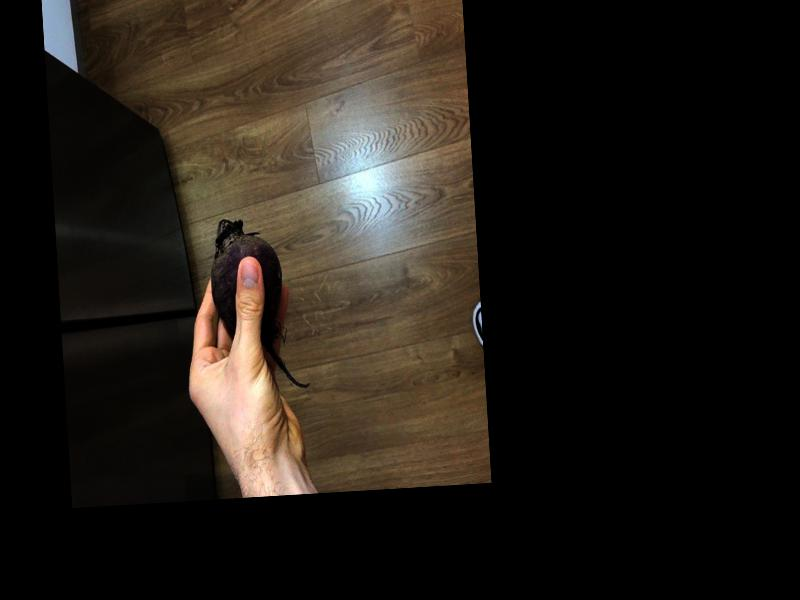Beet: (207, 213, 310, 391)
